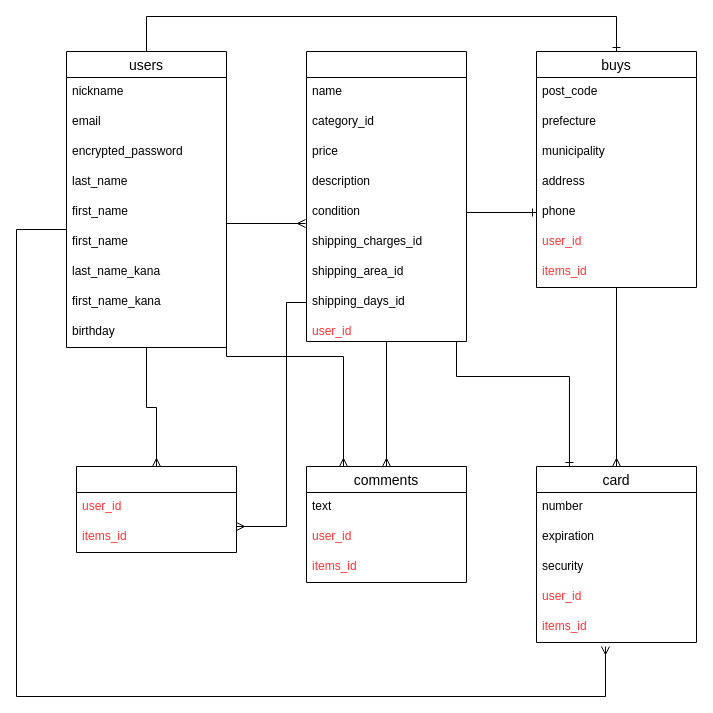
Image size: 713x713. Some labels were removed from this diagram. Here are the shapes that lost their labels. From the top down, the box of each, then its label:
(306, 50, 466, 342): items
(76, 466, 236, 552): favorites
